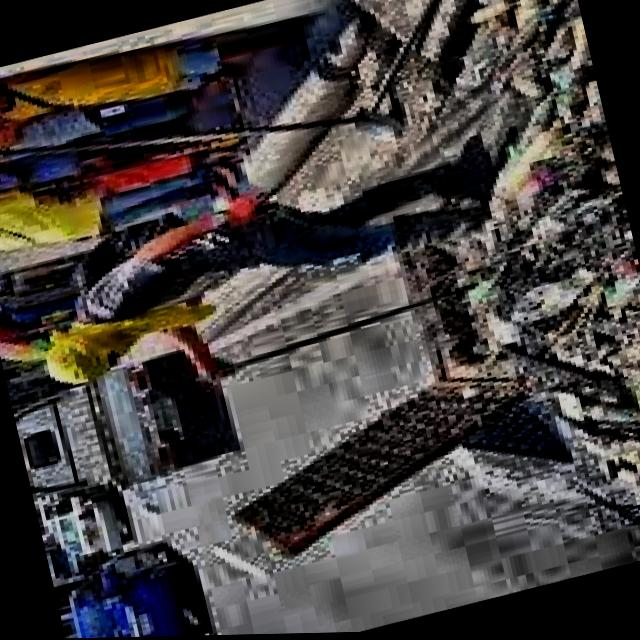Alligator Cracks: (393, 212, 572, 390)
